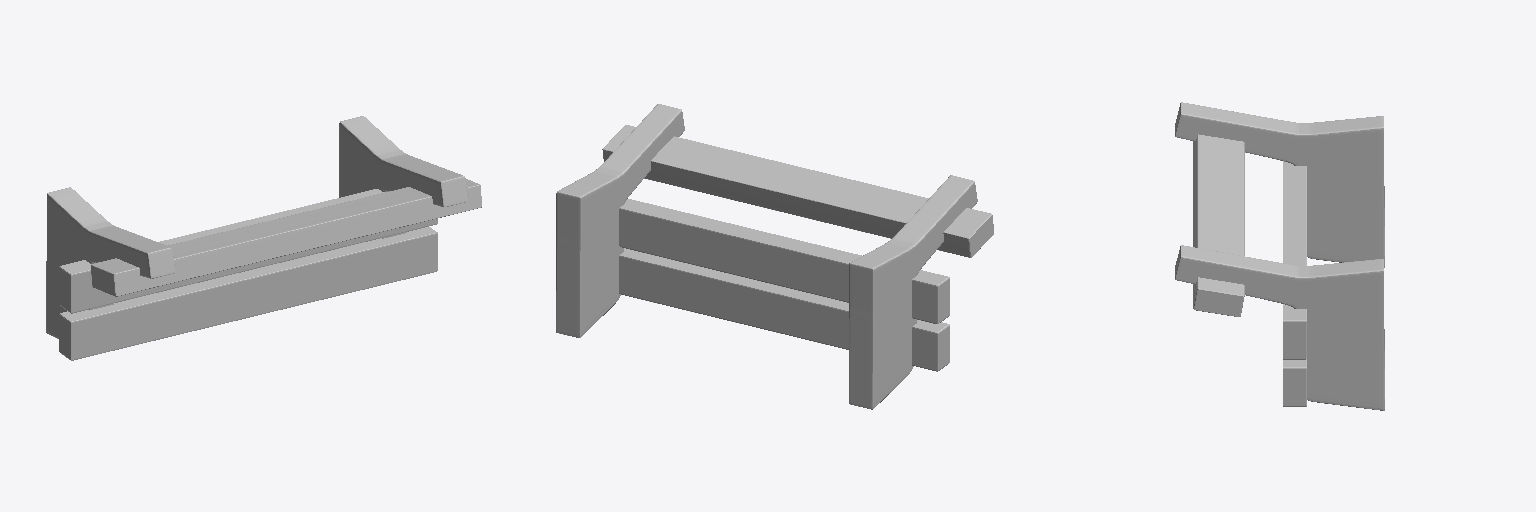
Rendered from 16452_WoodenBench_NEW.obj.
3 renders of one model, left to right at view 1: azimuth 30°, elevation 25°; view 2: azimuth 150°, elevation 25°; view 3: azimuth 270°, elevation 25°, orthographic.
Visible parts, largest first — view 1: Box008; view 2: Box008; view 3: Box008.
Part boxes in pixels (x1,y1,x2,y2): Box008: (46,116,481,360); Box008: (556,104,993,409); Box008: (1175,102,1384,410).
Size of the model in its own units: 2.94 by 1.18 by 1.46.